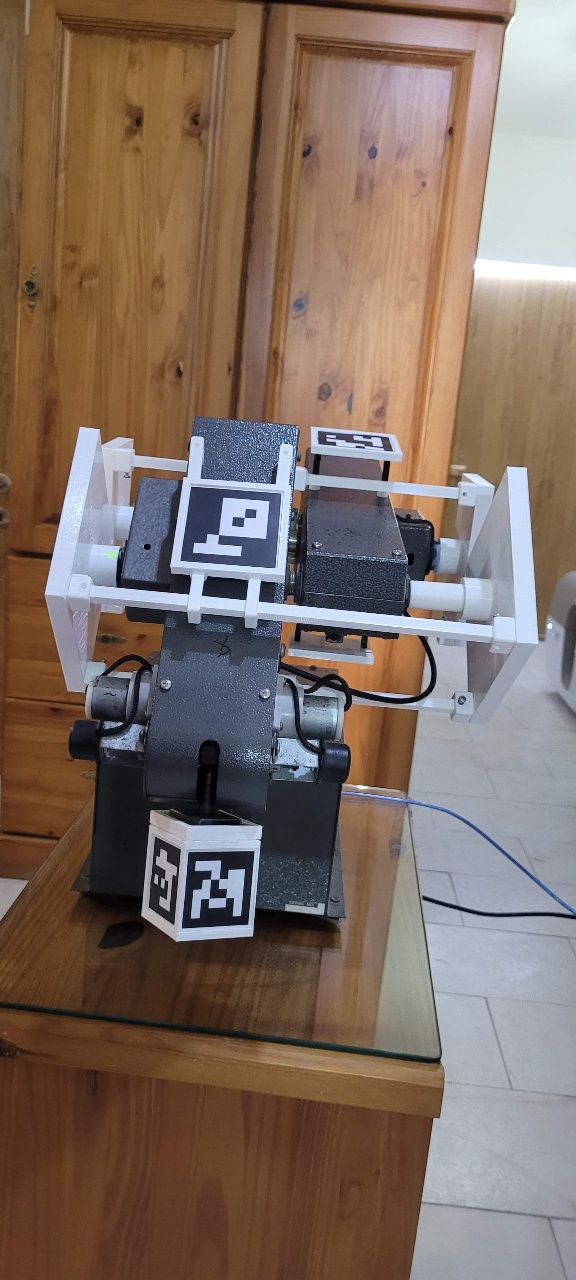Robot: (42, 415, 541, 946)
